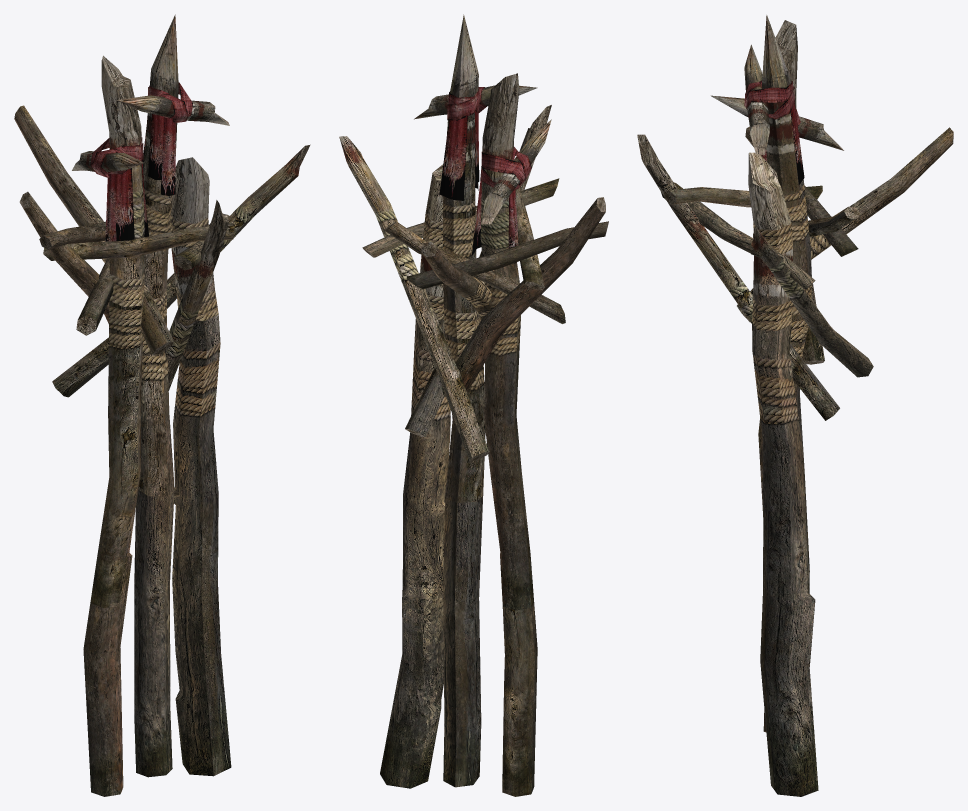
The model's file is OrcProp02.FBX.
The picture shows the model from 3 angles, left to right: view 1: azimuth 30°, elevation 25°; view 2: azimuth 150°, elevation 25°; view 3: azimuth 270°, elevation 25°; orthographic projection. The views are drawn at different scales.
Visible parts, largest first — view 1: LV_TurtleLake_LakeTower_OrcProp02_SM_KYS; view 2: LV_TurtleLake_LakeTower_OrcProp02_SM_KYS; view 3: LV_TurtleLake_LakeTower_OrcProp02_SM_KYS.
Boxes of the visible parts, x1,y1,x2,y2 form: LV_TurtleLake_LakeTower_OrcProp02_SM_KYS: (14,14,310,796); LV_TurtleLake_LakeTower_OrcProp02_SM_KYS: (339,14,608,796); LV_TurtleLake_LakeTower_OrcProp02_SM_KYS: (637,15,953,796).
Size of the model in its own units: 58.61 by 156 by 59.37.
